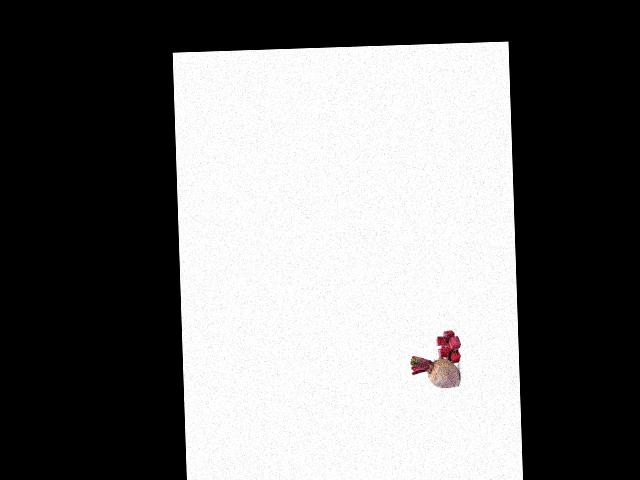beet: (410, 354, 460, 389)
